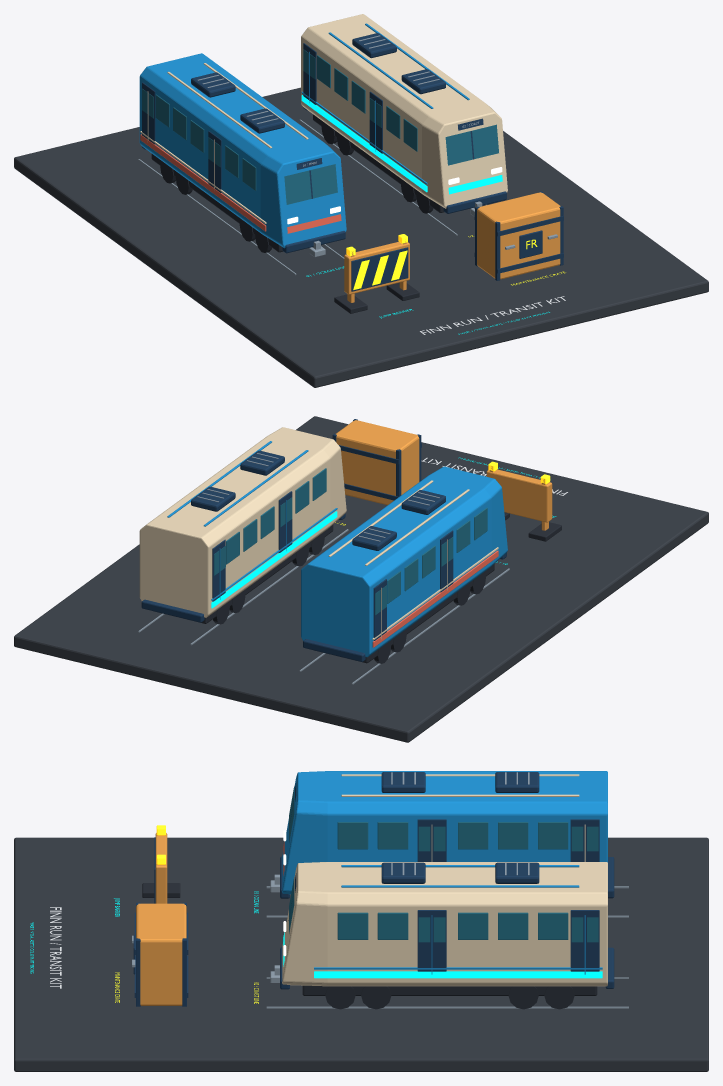
File: transit_catalogue.glb
3 views of the same model, one above another, from view 1: azimuth 30°, elevation 25°; view 2: azimuth 150°, elevation 25°; view 3: azimuth 270°, elevation 25° (orthographic). The views are drawn at different scales.
Visible parts, largest first — view 1: Presentation_Ground, Train_A_Body, Train_B_Body, Crate_A_Body, Train_A_Windshield, Train_B_Windshield, Barrier_A_Inset, Barrier_A_Panel, Train_A_SideStripe_-1, Train_B_SideStripe_-1, Train_A_RoofAC_3.2, Train_B_RoofAC_-2.2 (+2 smaller); view 2: Presentation_Ground, Train_B_Body, Train_A_Body, Crate_A_Body, Barrier_A_Panel, Train_B_SideStripe_-1, Train_A_SideStripe_-1, Train_B_RoofAC_3.2, Train_A_RoofAC_3.2, Train_B_RoofAC_-2.2, Train_A_RoofAC_-2.2, Train_B_RearBumper (+4 smaller); view 3: Presentation_Ground, Train_B_Body, Train_A_Body, Crate_A_Body, Train_B_SideStripe_1, Train_B_Chassis, Train_B_Door_1_-0.85, Train_B_Door_1_6.42, Train_B_RoofAC_-2.2, Train_B_RoofAC_3.2, Display_Rail_5.1_1.65, Train_A_RoofAC_-2.2 (+22 smaller).
Part boxes in pixels (box(x1,y1,x2,y2)): Presentation_Ground: box(14, 87, 708, 387); Train_A_Body: box(139, 53, 346, 248); Train_B_Body: box(301, 14, 507, 208); Crate_A_Body: box(477, 192, 560, 279); Train_A_Windshield: box(284, 164, 337, 204); Train_B_Windshield: box(445, 124, 498, 165); Barrier_A_Inset: box(351, 247, 408, 291); Barrier_A_Panel: box(344, 241, 409, 294); Train_A_SideStripe_-1: box(140, 134, 266, 231); Train_B_SideStripe_-1: box(301, 95, 427, 192); Train_A_RoofAC_3.2: box(191, 72, 235, 97); Train_B_RoofAC_-2.2: box(401, 69, 445, 94); Presentation_Ground: box(14, 416, 708, 742); Train_B_Body: box(139, 427, 346, 617); Train_A_Body: box(301, 466, 507, 657); Crate_A_Body: box(336, 420, 419, 505); Barrier_A_Panel: box(486, 469, 552, 522); Train_B_SideStripe_-1: box(211, 511, 337, 608); Train_A_SideStripe_-1: box(372, 550, 498, 647); Train_B_RoofAC_3.2: box(191, 486, 235, 511); Train_A_RoofAC_3.2: box(352, 526, 396, 550); Train_B_RoofAC_-2.2: box(240, 450, 284, 475); Train_A_RoofAC_-2.2: box(401, 490, 445, 514); Train_B_RearBumper: box(141, 599, 204, 622); Presentation_Ground: box(14, 837, 708, 1071); Train_B_Body: box(282, 862, 607, 986); Train_A_Body: box(282, 771, 607, 894); Crate_A_Body: box(136, 903, 186, 1005); Train_B_SideStripe_1: box(314, 971, 602, 978); Train_B_Chassis: box(302, 985, 597, 995); Train_B_Door_1_-0.85: box(417, 910, 446, 971); Train_B_Door_1_6.42: box(570, 910, 599, 971); Train_B_RoofAC_-2.2: box(381, 862, 425, 883); Train_B_RoofAC_3.2: box(495, 862, 539, 883); Display_Rail_5.1_1.65: box(266, 1006, 628, 1008); Train_A_RoofAC_-2.2: box(381, 772, 425, 792).
Size of the model in its own units: 25 by 7.22 by 33.
